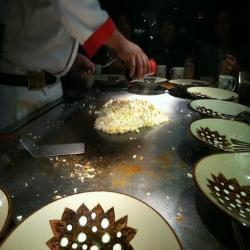rice: (92, 94, 173, 140)
